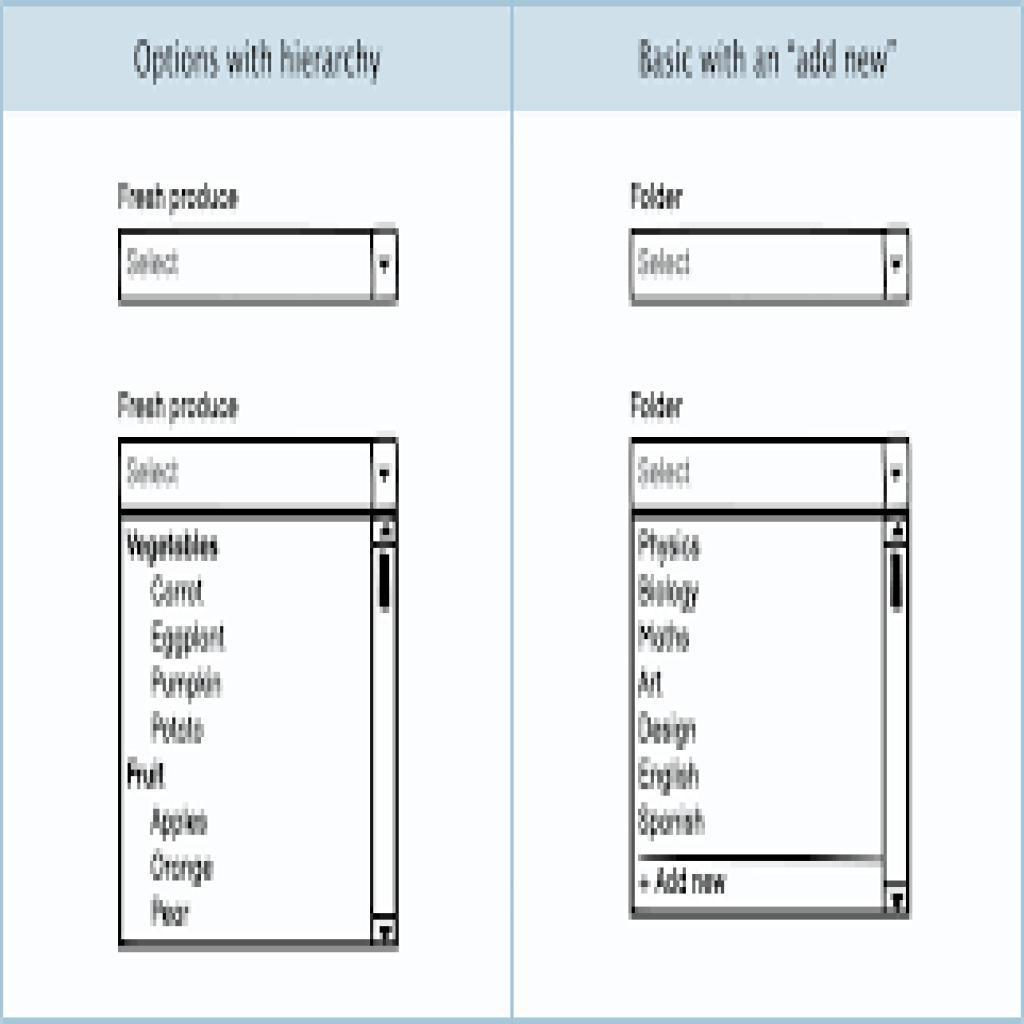dropdown: (629, 229, 912, 306), (119, 229, 401, 306), (631, 437, 911, 514), (120, 438, 400, 514)
